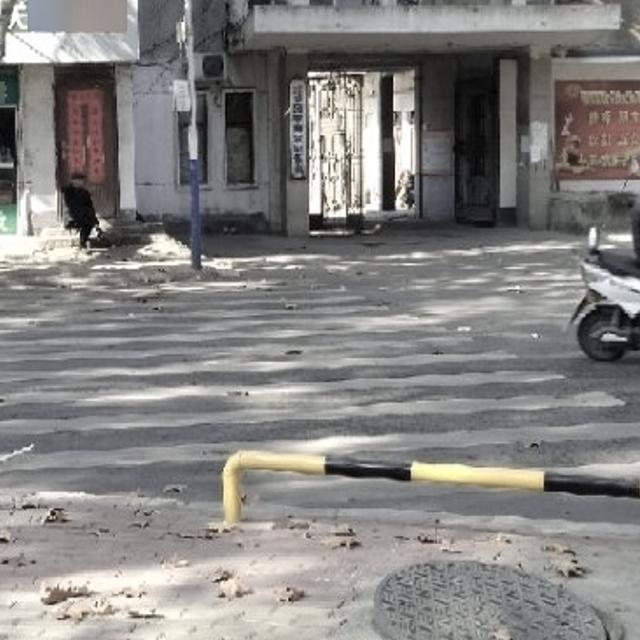uncovered: (376, 562, 625, 640)
